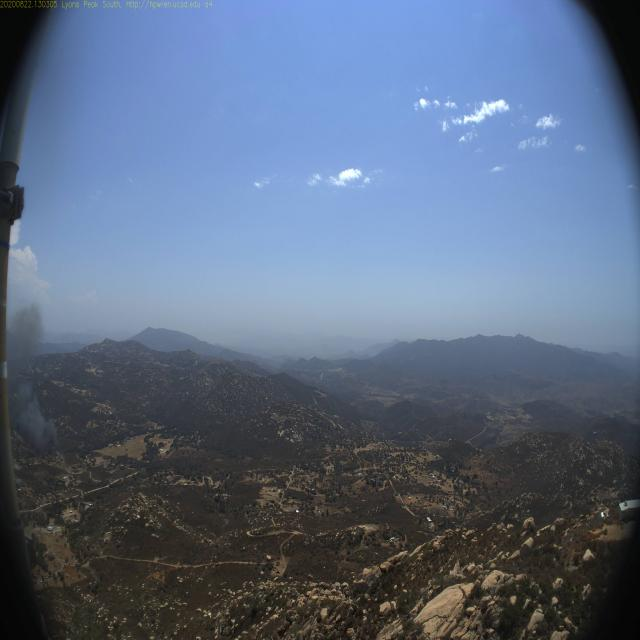smoke: (15, 386, 66, 462), (7, 302, 51, 382)
